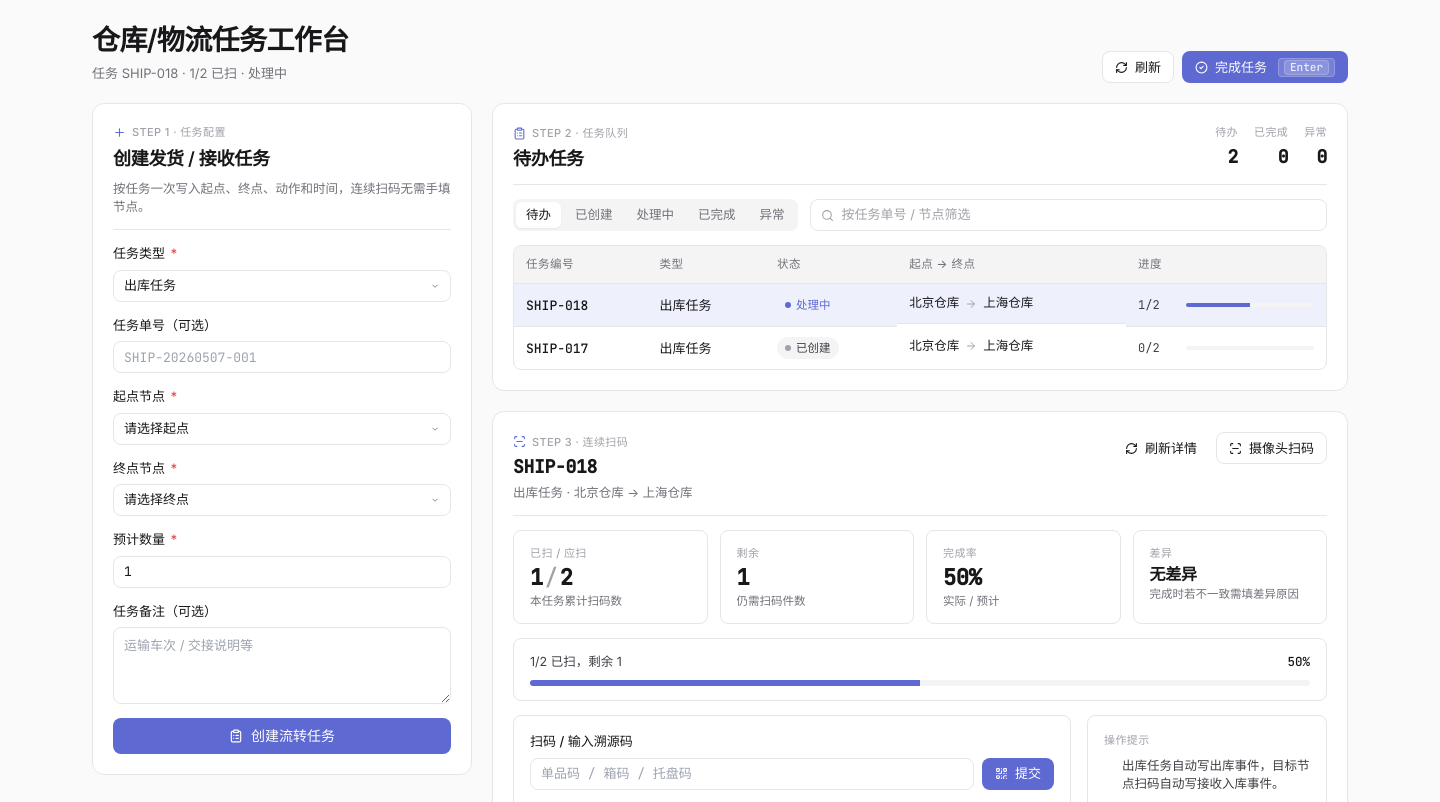
Scenario: TraceFlowTaskWorkbench (Linear shell) › renders batch scan success message when backend returns batch_scan=true
This screenshot has width=1440, height=802.
In the field with test id "flow-task-scan-input": coordinates (752, 774) top-left (530, 758), bottom-right (974, 790), type "CARTON-001"
(page scrolled)
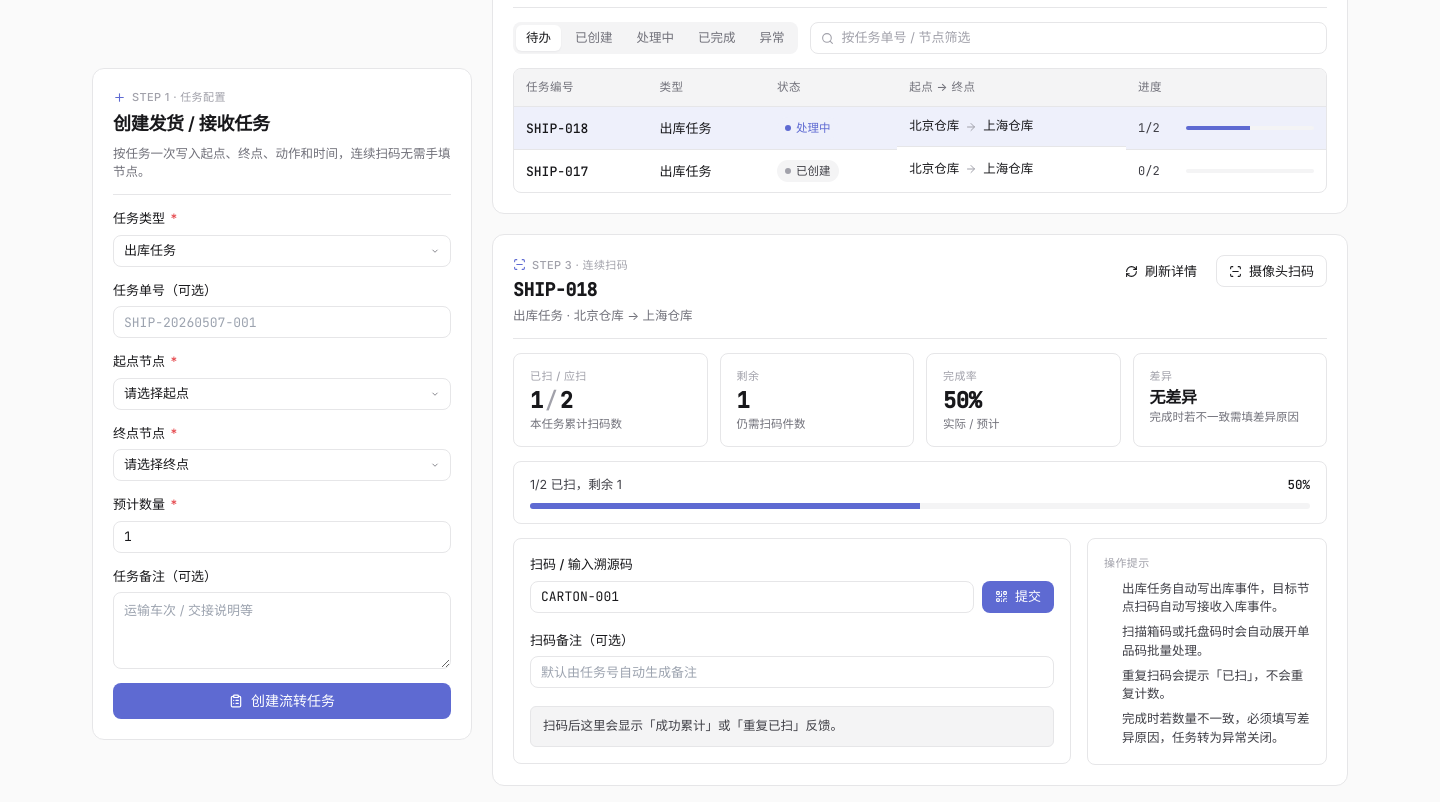
Submit the form with test id "flow-task-scan-form", box top-left (513, 538), bottom-right (1071, 764)
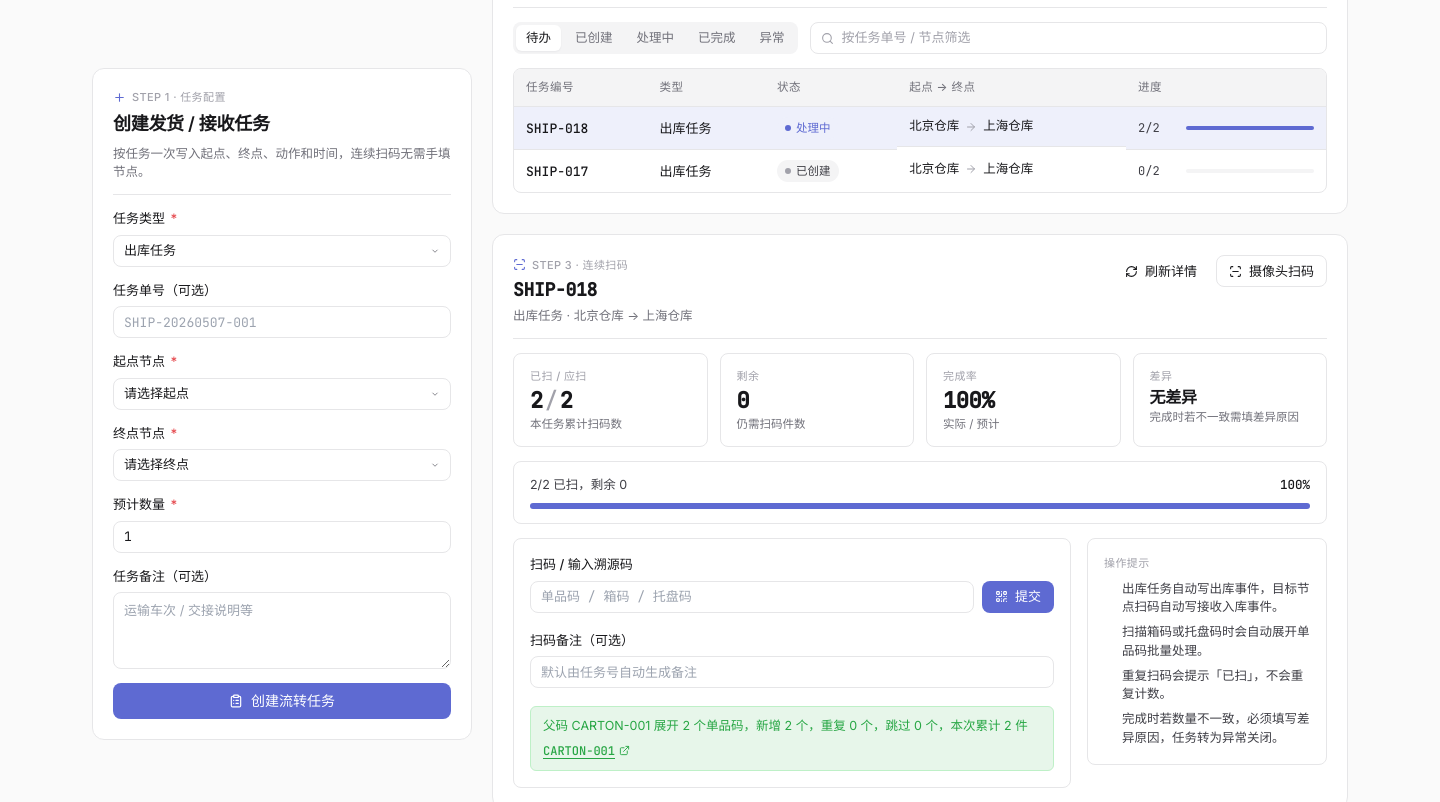
Expected: the element with test id "flow-task-scan-feedback" shows "父码 CARTON-001 展开 2 个单品码", top-left (543, 718), bottom-right (1028, 733)
